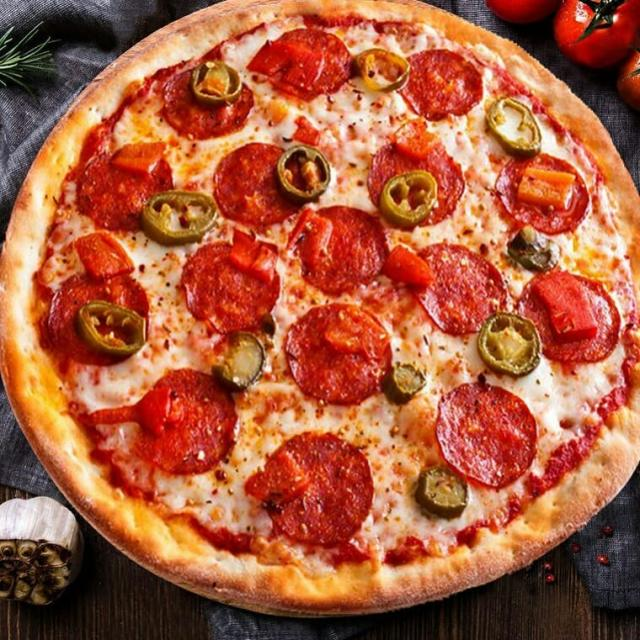pepperoni: (259, 424, 375, 544), (128, 373, 237, 475), (47, 267, 151, 369), (286, 299, 392, 399), (438, 380, 539, 483), (175, 238, 278, 334), (522, 273, 622, 362), (492, 151, 591, 233), (68, 151, 174, 227), (300, 204, 388, 295), (244, 22, 349, 98), (158, 76, 262, 140), (214, 139, 291, 223), (401, 48, 482, 123), (366, 126, 460, 180)
pizza: (0, 0, 640, 620)
